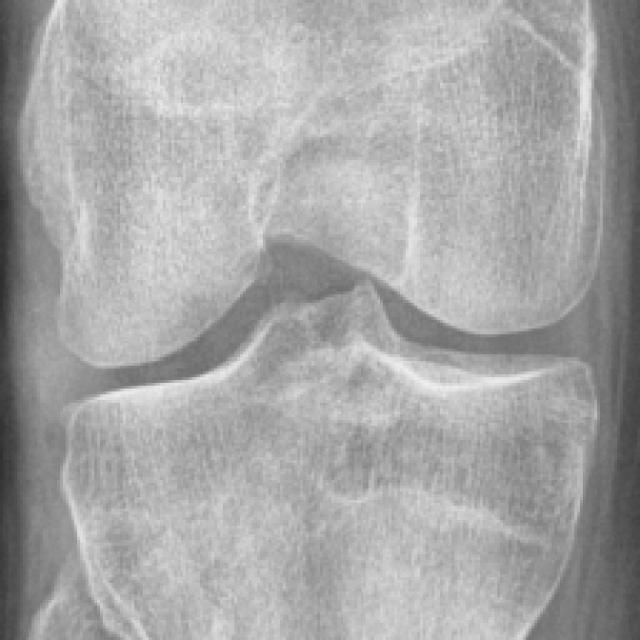femur: (18, 0, 609, 370)
tibia: (61, 289, 600, 640)
